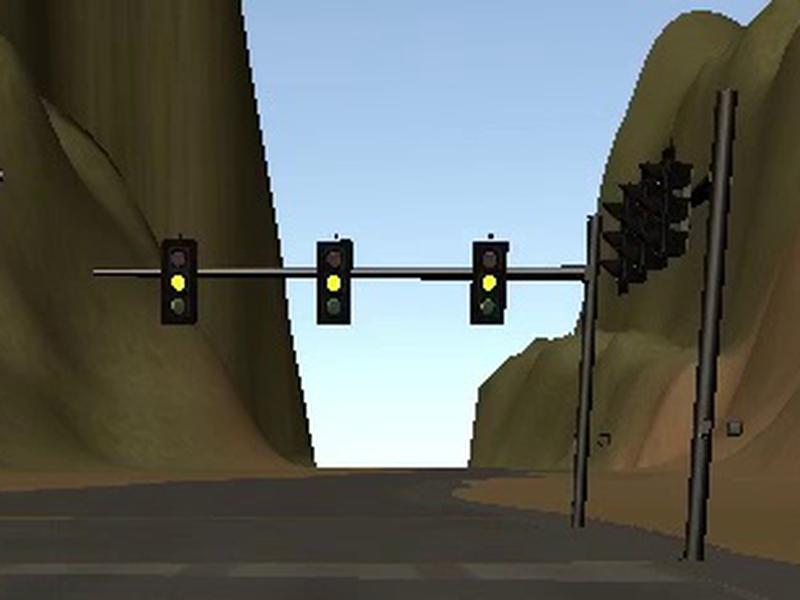Yellow: (470, 241, 510, 324), (316, 238, 354, 324), (160, 239, 196, 324)
